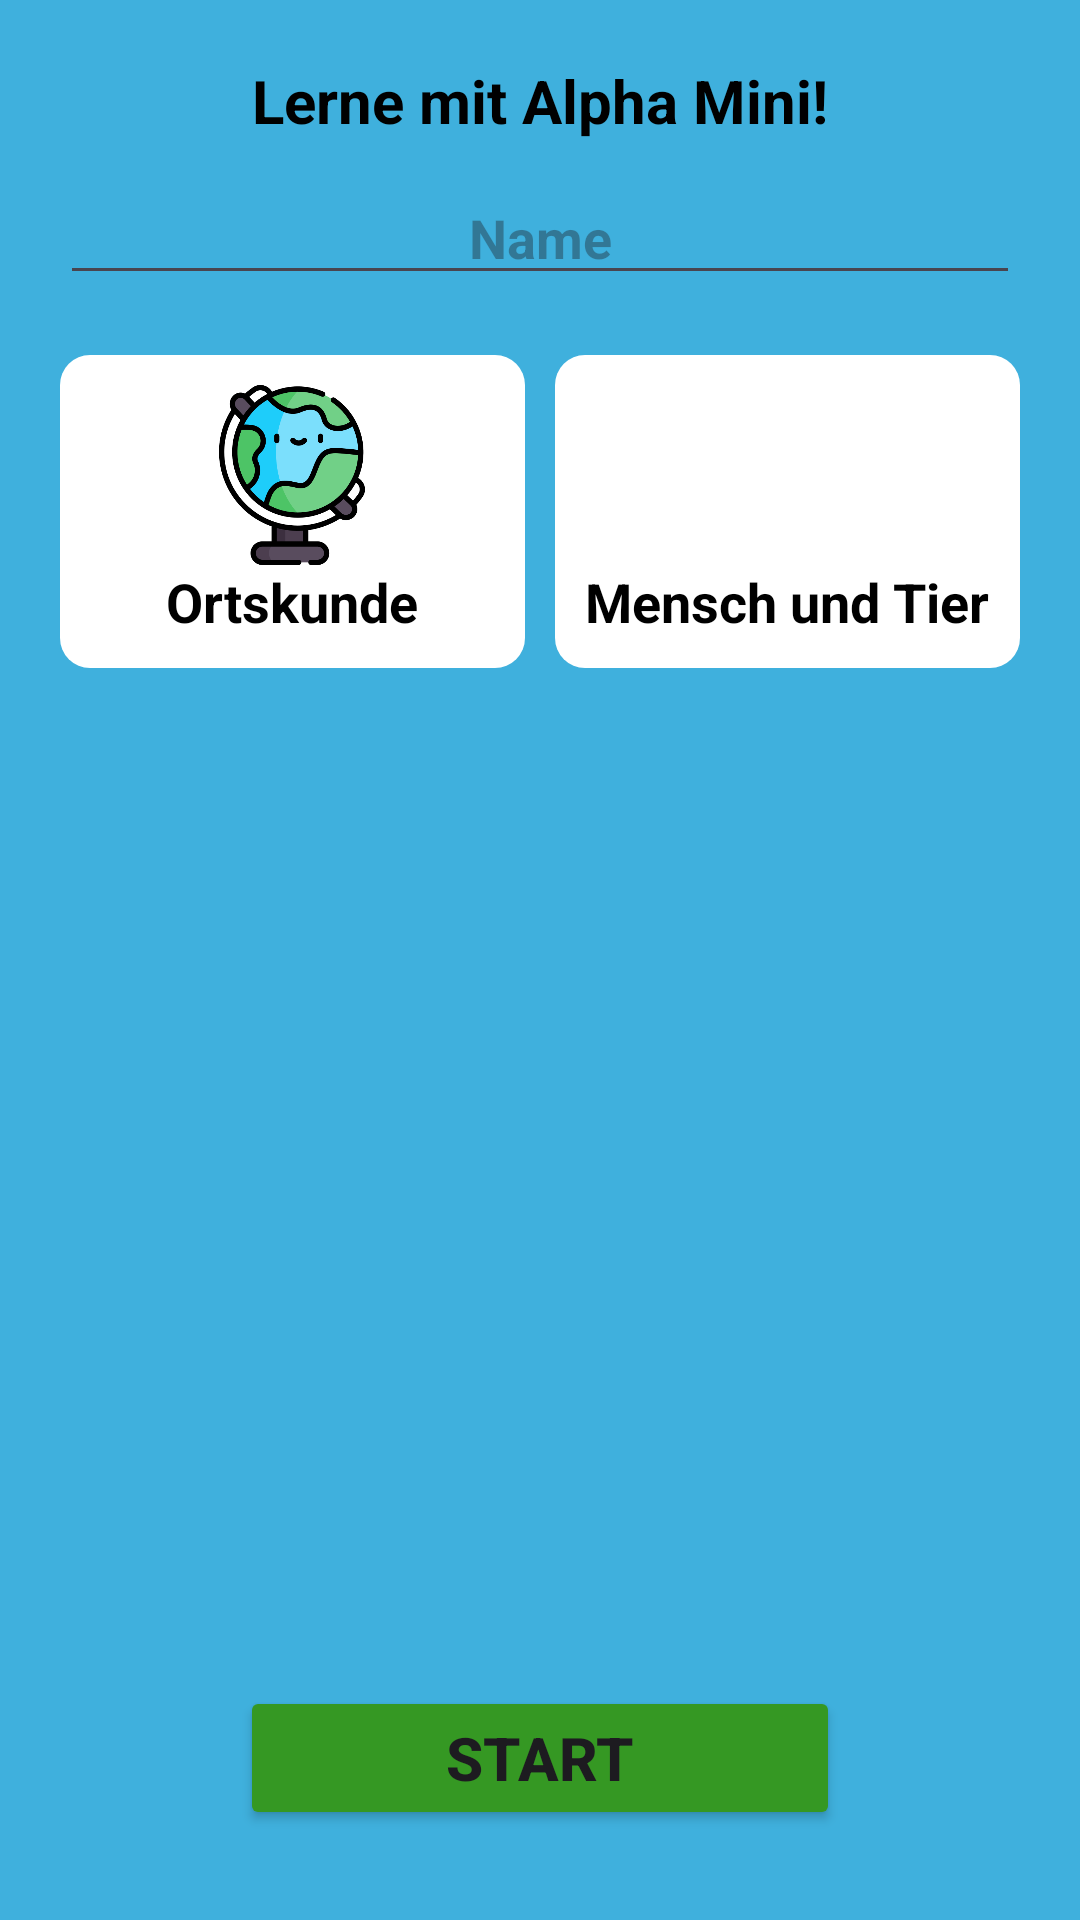

Named icons in this screenshot (1080×1920) and their centers, point (x, y):
globus: point (292, 475)
